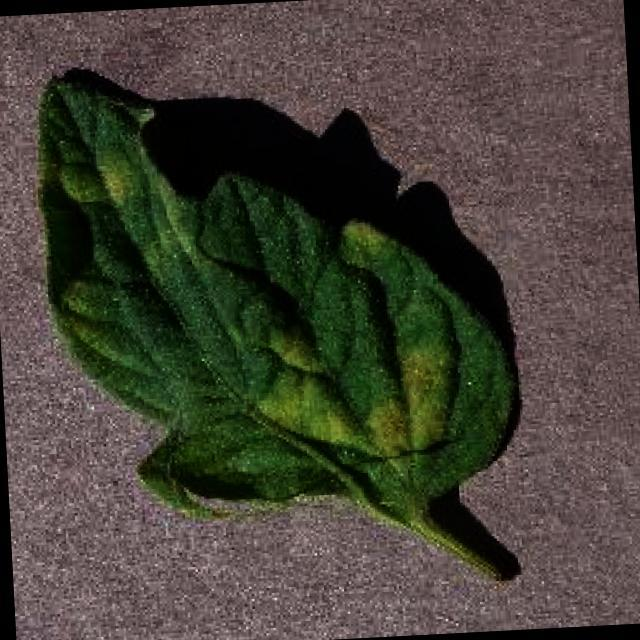Tomato mold leaf: (32, 51, 523, 526)
